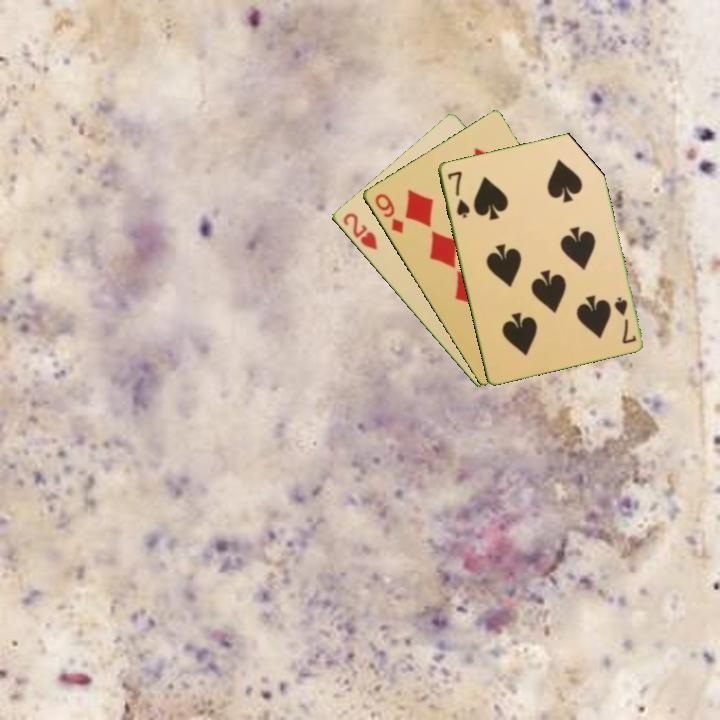2h: (339, 209, 380, 253)
7s: (610, 293, 639, 347), (444, 167, 472, 221)
9d: (371, 190, 406, 236)
